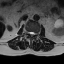CCS_normal: (31, 29, 32, 38)
LFS_normal: (34, 30, 37, 36)
LLS_normal: (32, 29, 34, 37)
RFS_normal: (26, 28, 28, 36)
RLS_normal: (28, 29, 31, 36)
